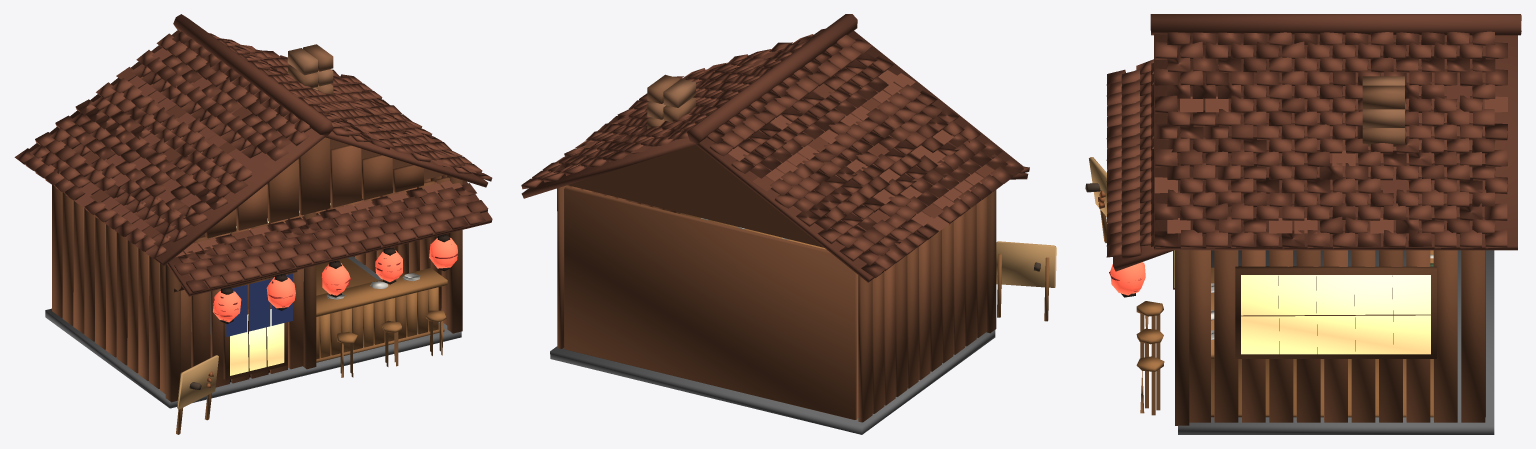
File: izakaya.glb
The picture shows the model from 3 angles, left to right: view 1: azimuth 30°, elevation 25°; view 2: azimuth 150°, elevation 25°; view 3: azimuth 270°, elevation 25°; orthographic projection. The views are drawn at different scales.
Visible parts, largest first — view 1: izakaya; view 2: izakaya; view 3: izakaya.
Part boxes in pixels (<box>): izakaya: <box>14,14,492,434</box>; izakaya: <box>521,14,1056,434</box>; izakaya: <box>1085,14,1521,434</box>.
Size of the model in its own units: 3.12 by 2.29 by 2.75.
